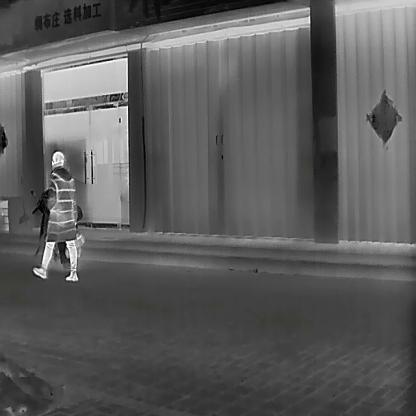car: (32, 150, 78, 280)
